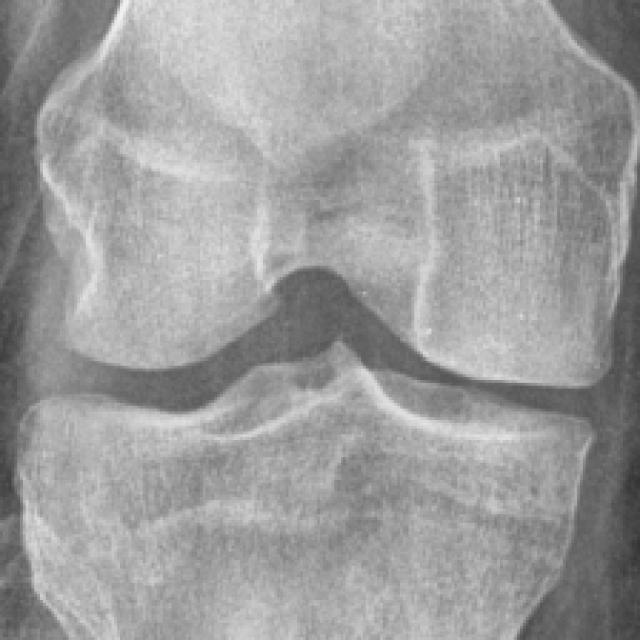femur: (34, 0, 640, 386)
tibia: (11, 351, 596, 640)
